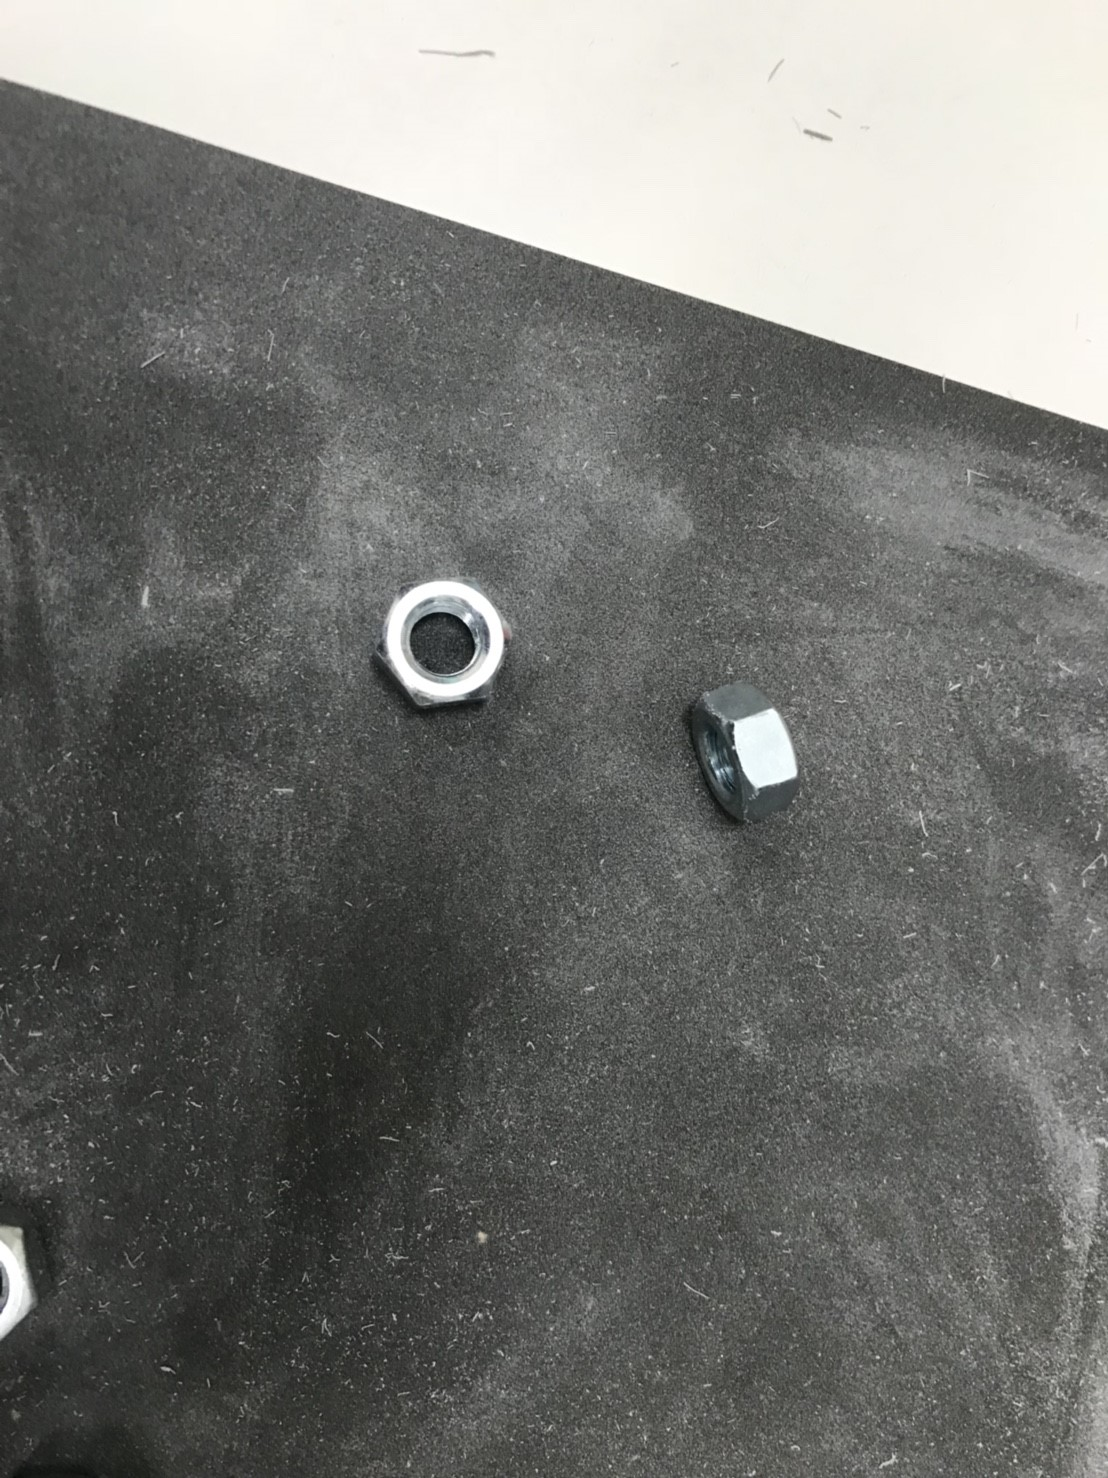nut: (368, 573, 513, 715), (677, 668, 805, 827)
